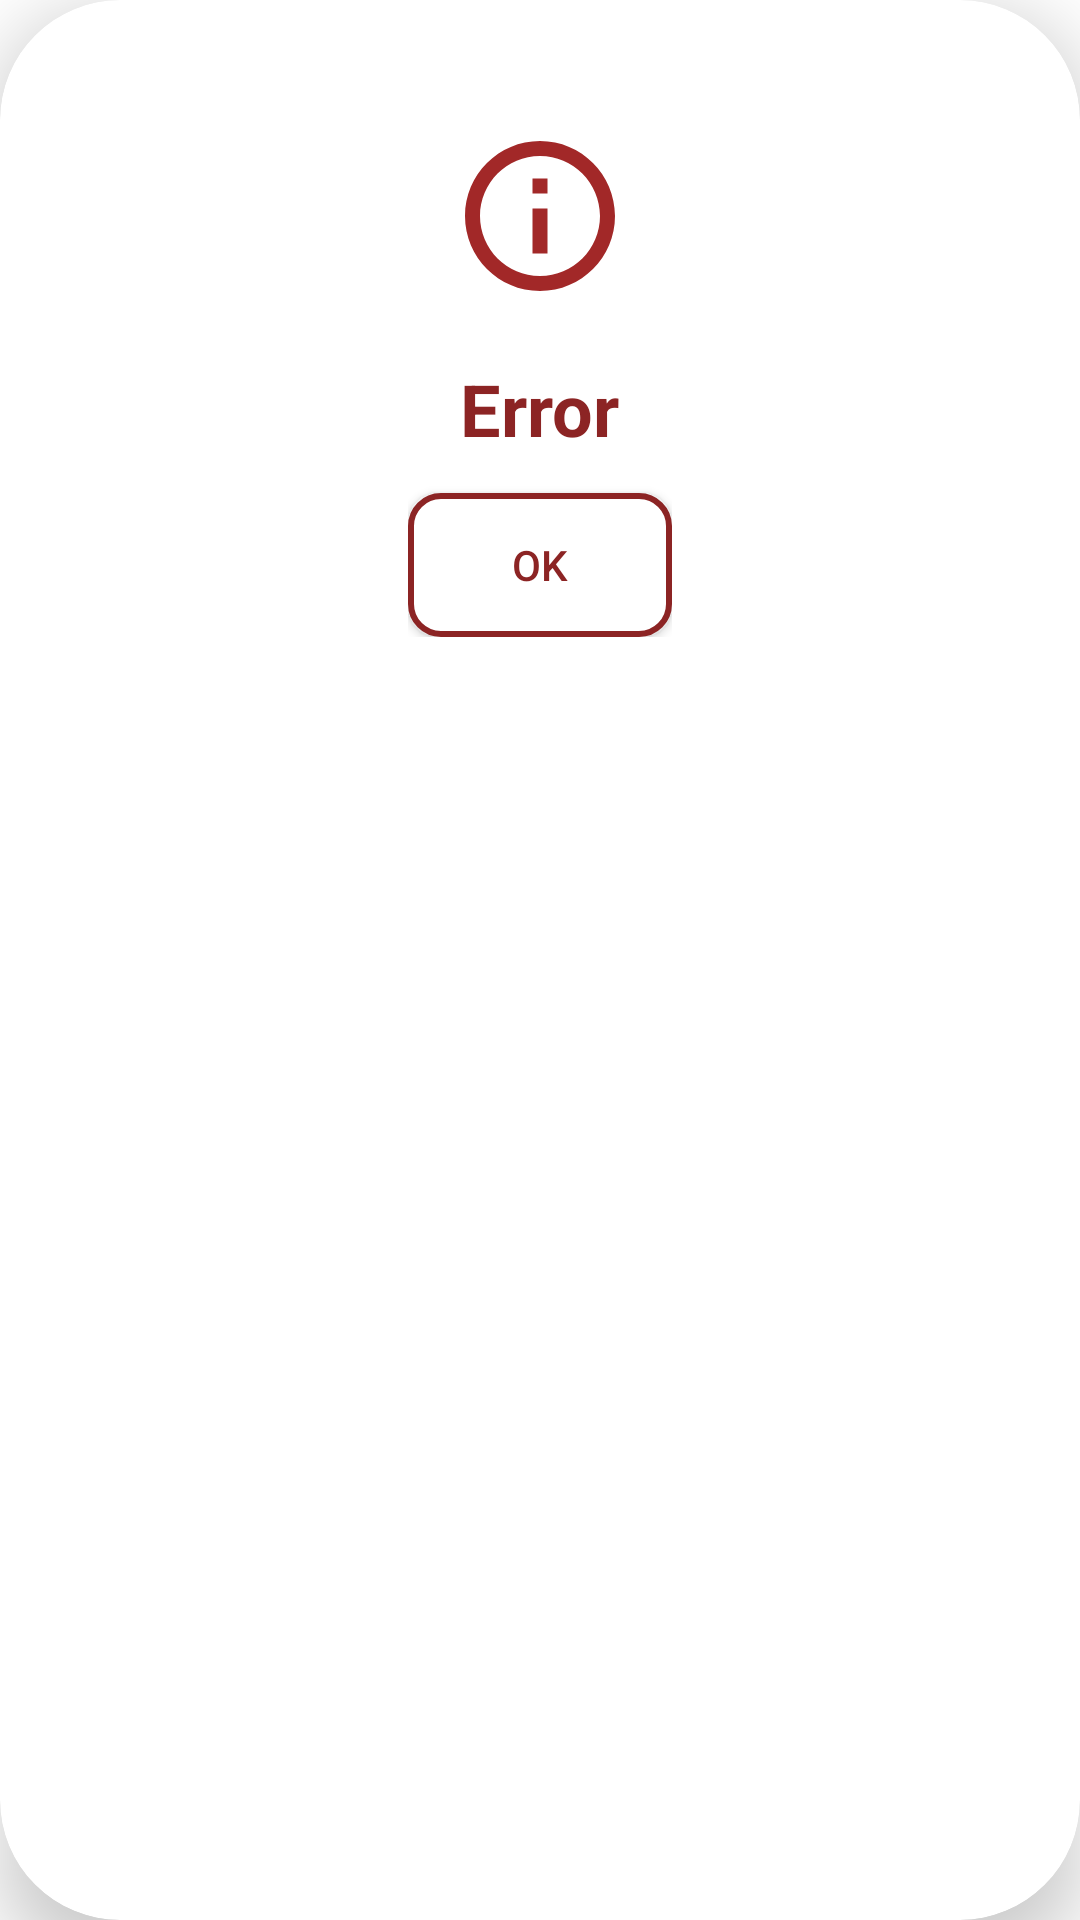

Named icons in this screenshot (1080w x 1920h) and their bounding boxes, (x1, y1, x2, y2):
info: (465, 141, 615, 291)
